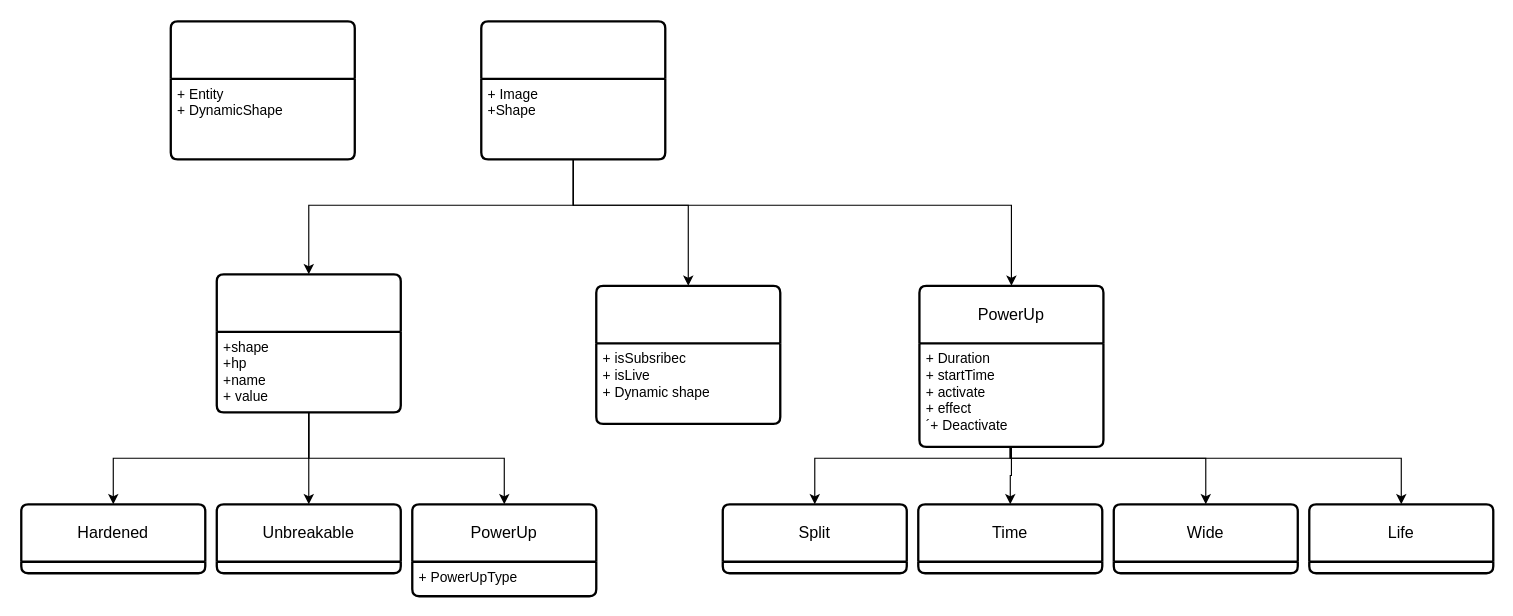
The diagram is 1513 pixels wide and 616 high, and some of its shapes have lost their labels. The shapes that lost their labels are listed below. From the top down, each one's box as (x1, y1, x2, y2) in pixels, then its label:
(169, 20, 355, 160): Player
(480, 20, 666, 160): Entity
(215, 273, 401, 413): Block
(595, 284, 781, 424): Ball
